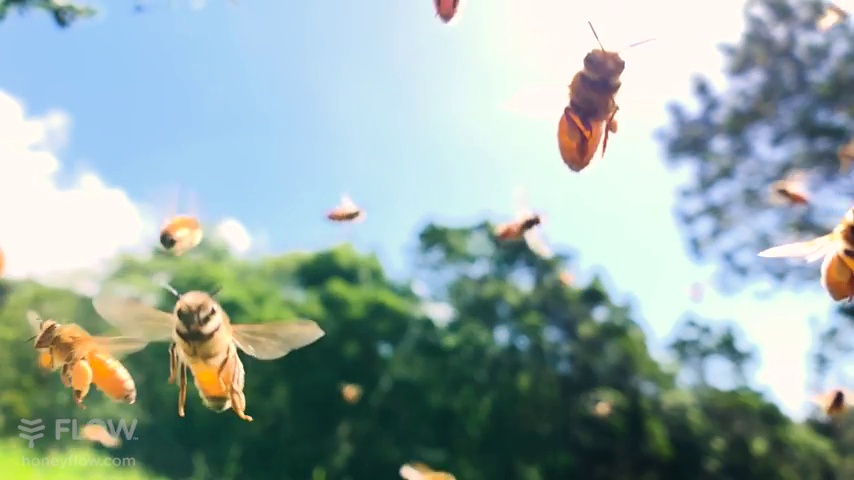insect: (152, 283, 326, 420), (556, 21, 651, 177), (26, 307, 146, 412), (762, 204, 853, 303), (160, 194, 199, 257), (491, 209, 543, 247), (325, 198, 361, 223)
